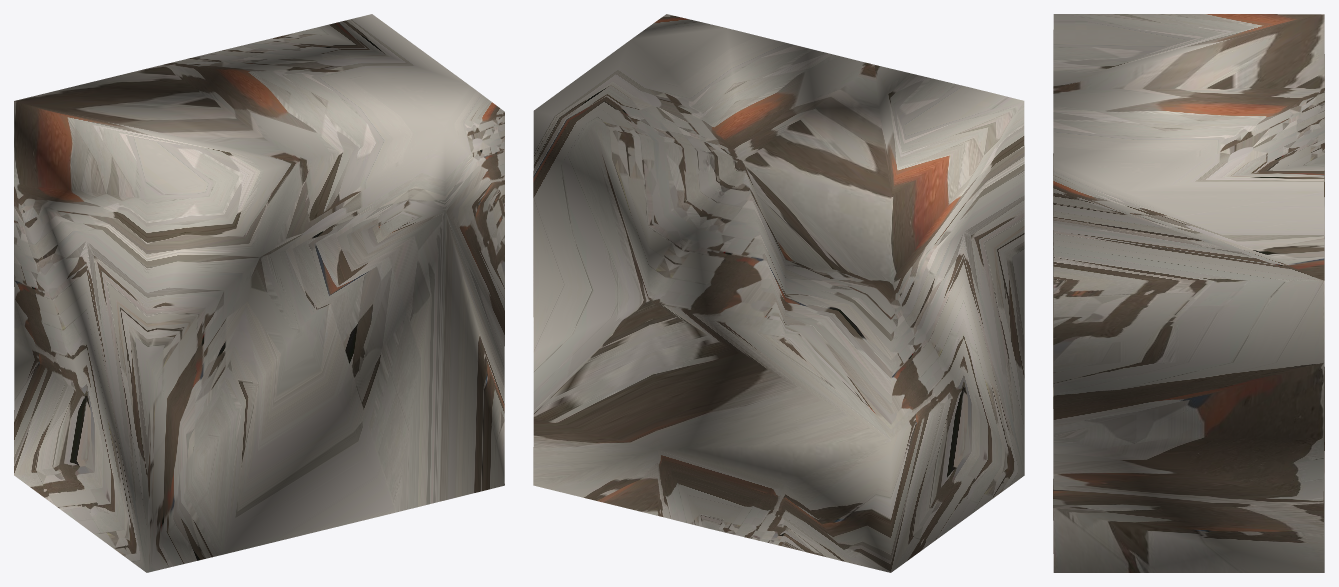
Rendered from walkseg_lod1.glb.
3 views of the same model, side by side, from view 1: azimuth 30°, elevation 25°; view 2: azimuth 150°, elevation 25°; view 3: azimuth 270°, elevation 25° (orthographic).
Bounding box in the file's own units: 1.9 × 1.9 × 1.23.
Materials: 1 (1 with a texture image).
